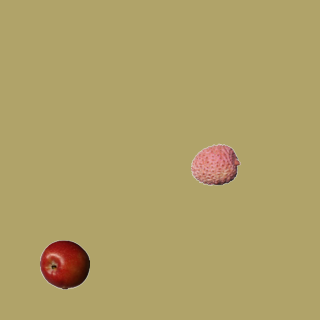Apple Braeburn: (39, 239, 89, 289)
Lychee: (190, 139, 240, 189)
